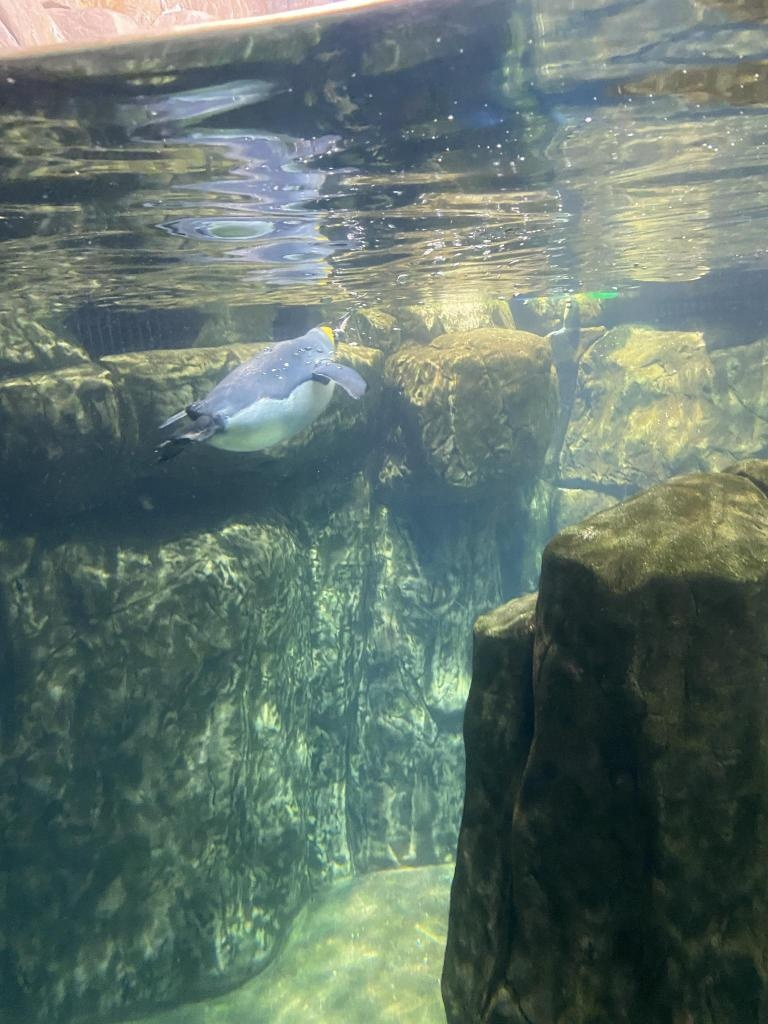penguin: (161, 311, 382, 467)
